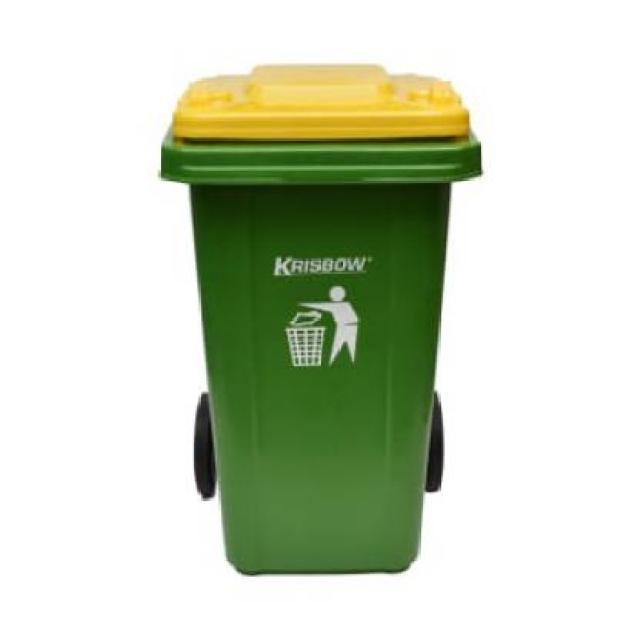garbage container: (142, 56, 496, 592)
